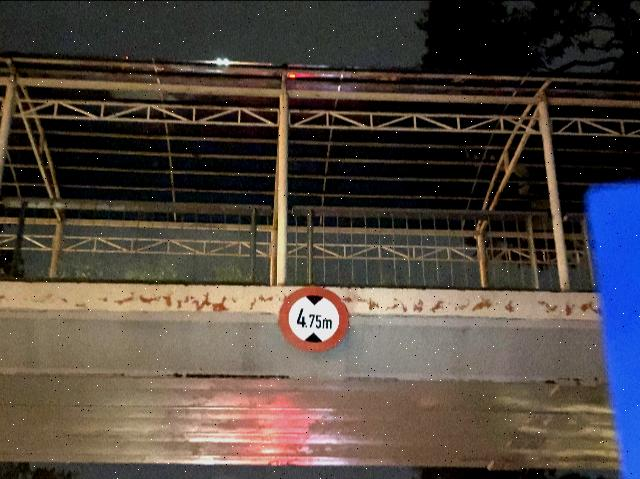han-che-chieu-cao: (278, 286, 348, 352)
